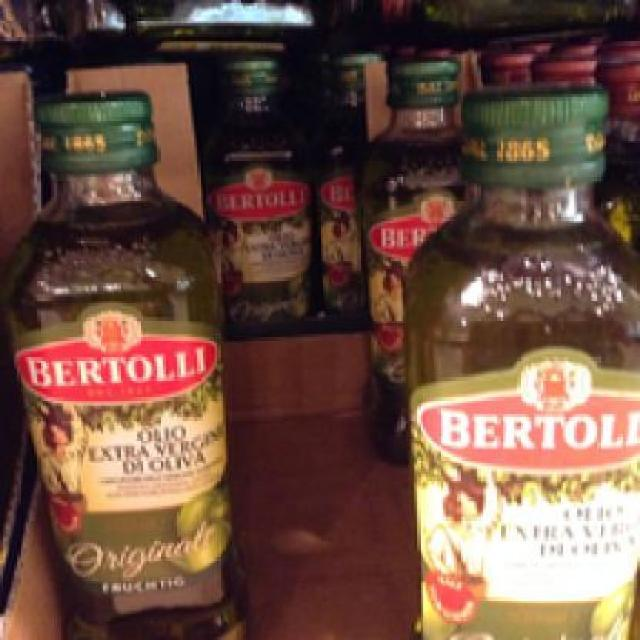Oil: (3, 88, 240, 634), (402, 82, 632, 635), (208, 54, 314, 320)
